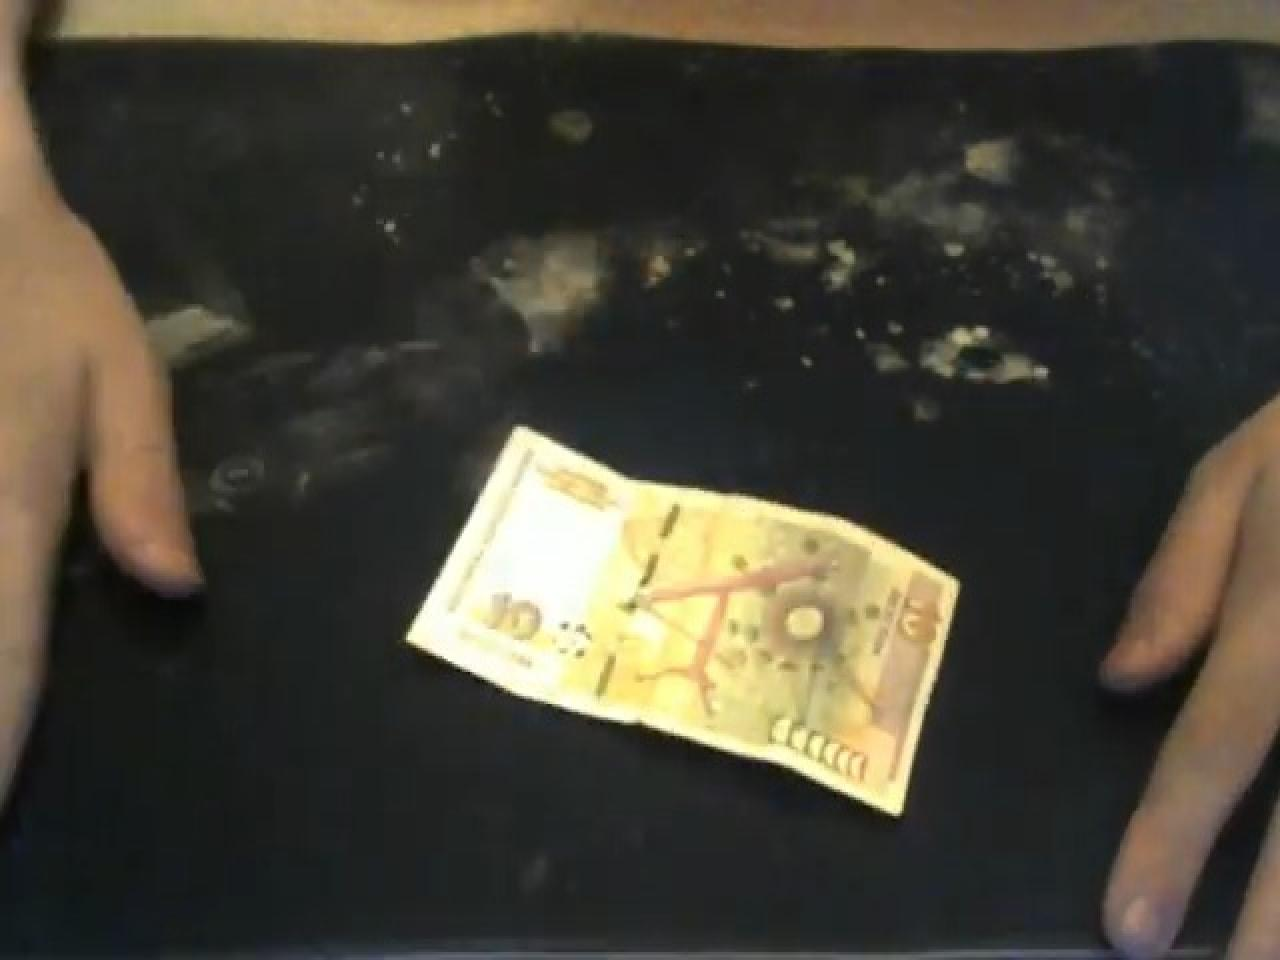10leva: (406, 430, 962, 821)
